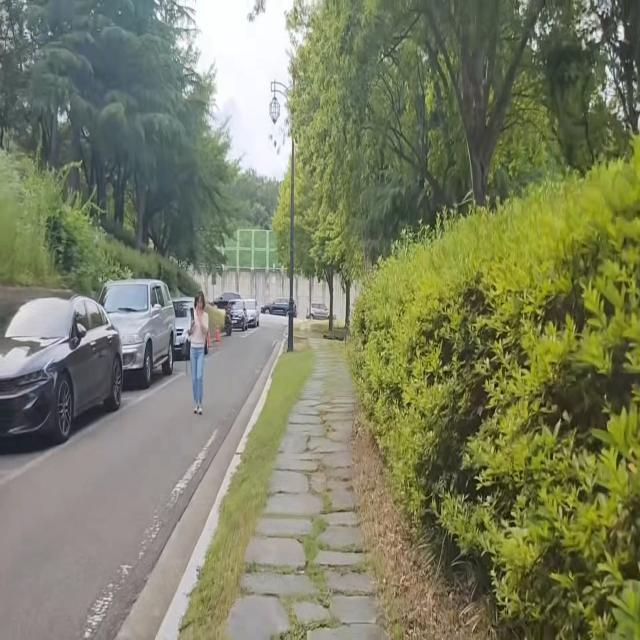obstacle: (0, 286, 128, 474), (96, 267, 183, 404), (183, 281, 212, 415)
road: (0, 326, 287, 640)
sidewalk: (160, 336, 409, 640)
